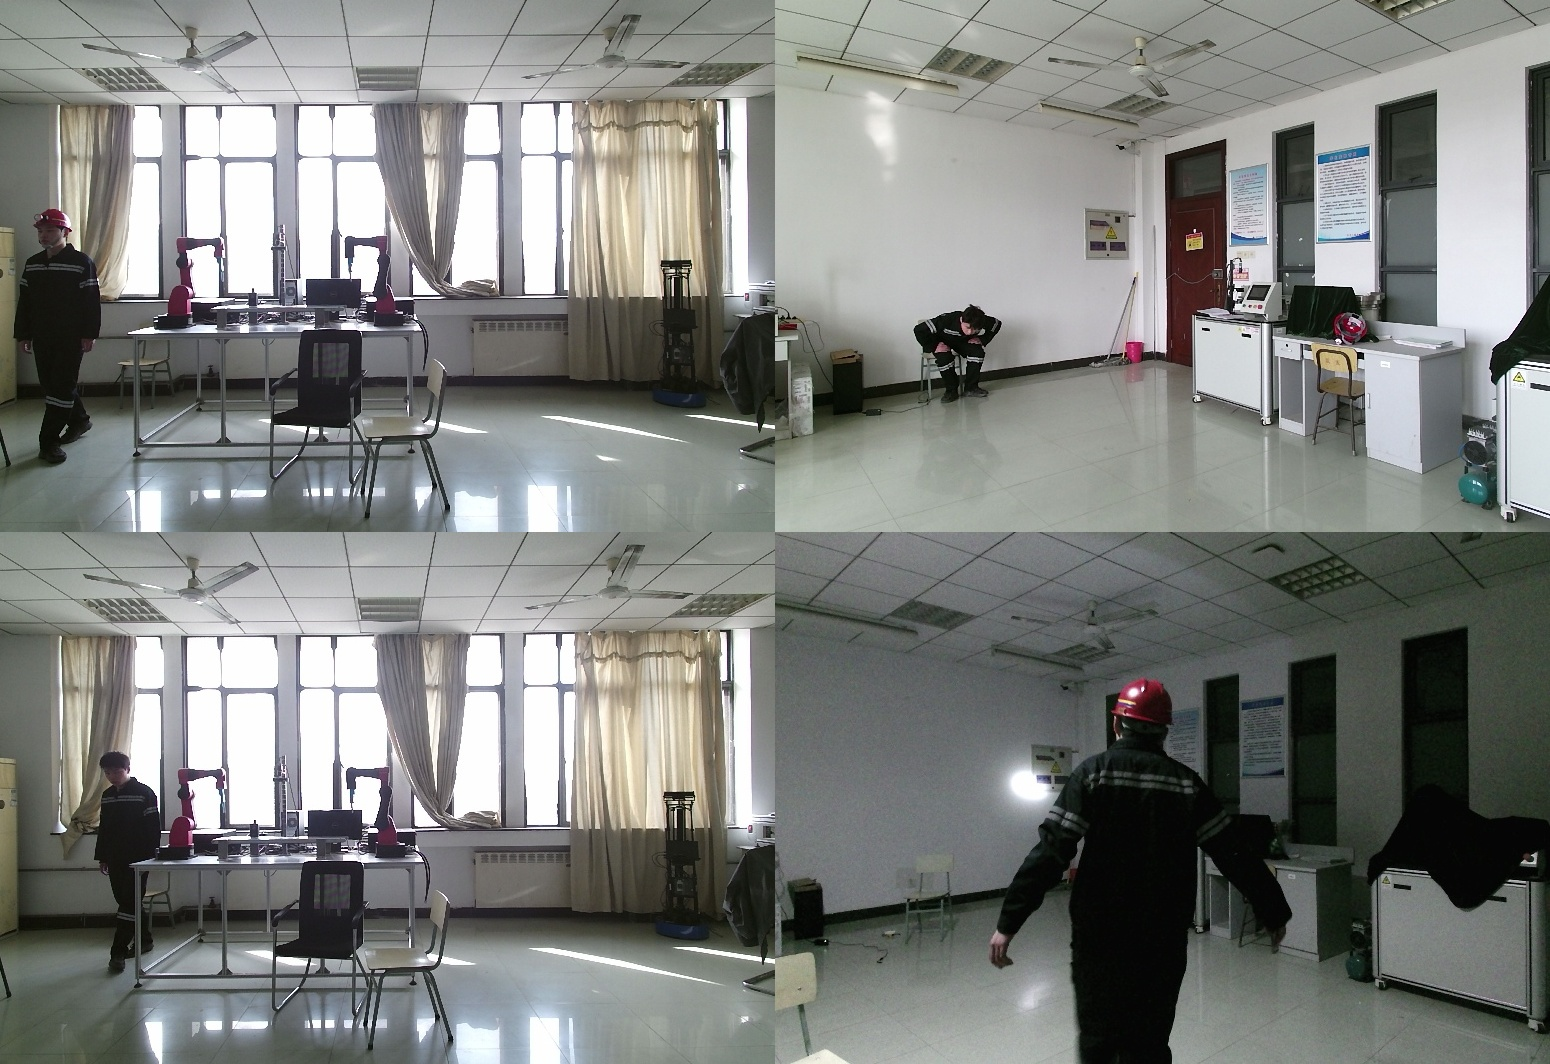person: (997, 676, 1305, 1064), (9, 207, 106, 465), (90, 752, 166, 969), (913, 309, 1000, 407)
